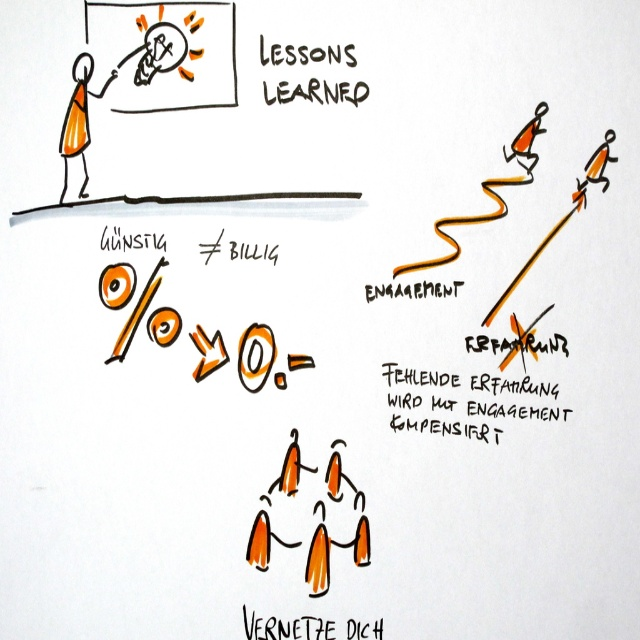Penguin: (242, 484, 279, 583)
